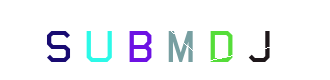B: (100, 0, 180, 80)
D: (144, 0, 224, 80)
J: (181, 0, 261, 80)
M: (125, 0, 205, 80)
S: (59, 0, 139, 80)
U: (91, 0, 171, 80)
